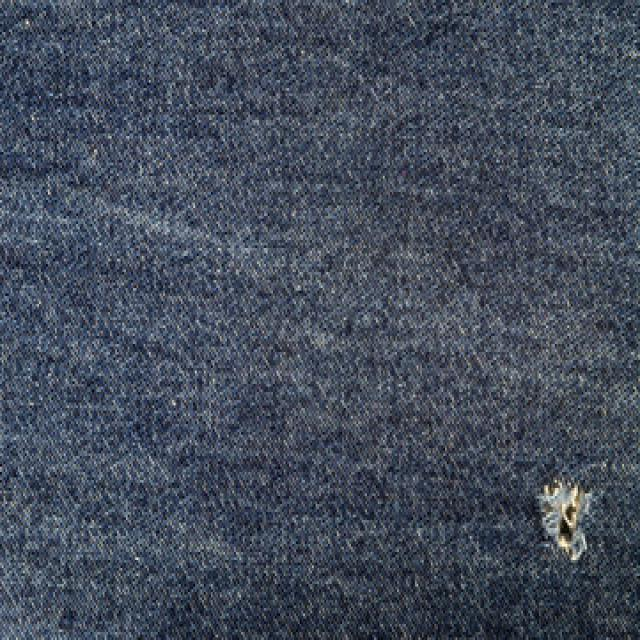Hole: (539, 482, 592, 562)
